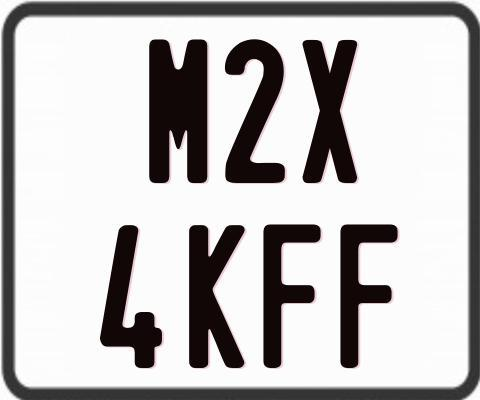2: (224, 39, 286, 187)
4: (98, 225, 160, 374)
F: (340, 224, 404, 374), (261, 223, 320, 372)
K: (189, 224, 248, 373)
M: (148, 38, 208, 188)
X: (302, 37, 362, 185)
